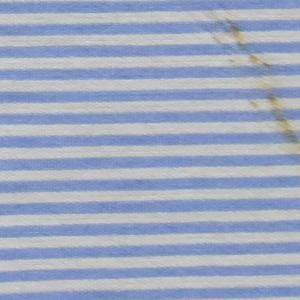Oil Stain: (194, 7, 300, 165)
